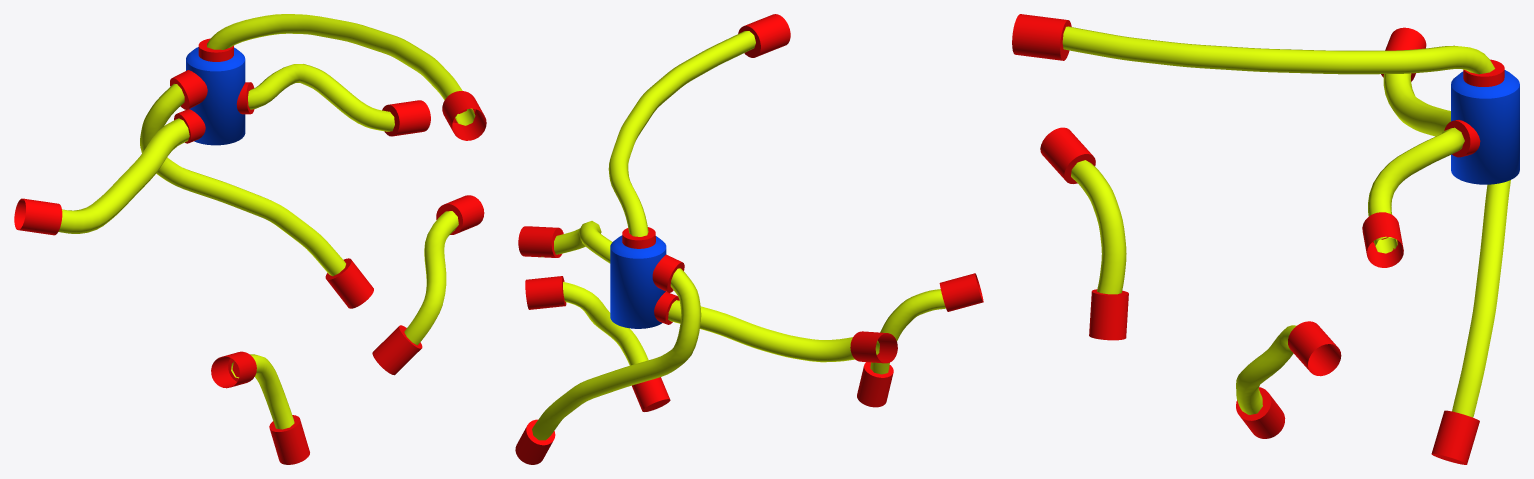
Rendered from tubos_level_3.fbx.
The picture shows the model from 3 angles, left to right: view 1: azimuth 30°, elevation 25°; view 2: azimuth 150°, elevation 25°; view 3: azimuth 270°, elevation 25°; orthographic projection. The views are drawn at different scales.
Parts seen in each view (by area): view 1: Cylinder008; view 2: Cylinder008; view 3: Cylinder008.
Part boxes in pixels (x1,y1,x2,y2): Cylinder008: (14,14,486,464); Cylinder008: (515,14,983,464); Cylinder008: (1012,14,1519,464).
Bounding box in the file's own units: 41.63 × 32.88 × 36.96.
